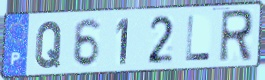1: (115, 17, 129, 66)
2: (148, 14, 175, 65)
6: (71, 17, 103, 69)
L: (184, 14, 213, 63)
Q: (34, 19, 65, 70)
R: (217, 7, 255, 65)
